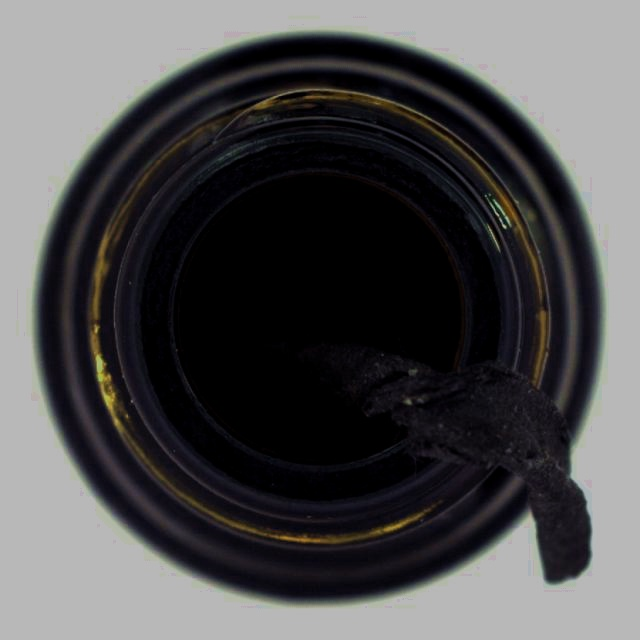bad-contamination: (30, 29, 606, 609)
